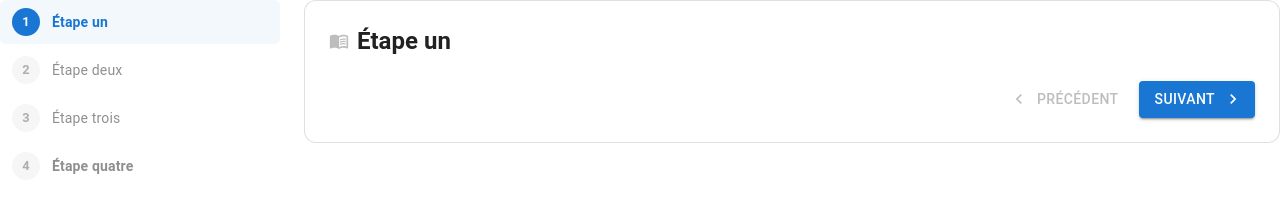
Test case: ModuleStepper › coche les étapes déjà franchies dans le sommaire, pas l'étape active ni les suivantes
Click the button "Suivant".
click(1197, 99)  # box [1138,81,1255,118]
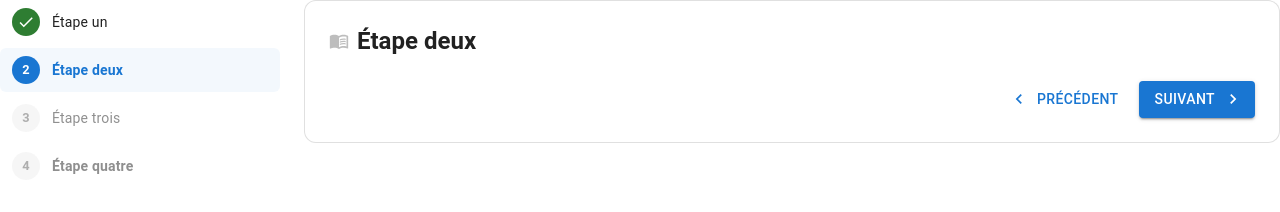
Click the button "Suivant".
click(1197, 99)  # box [1138,81,1255,118]
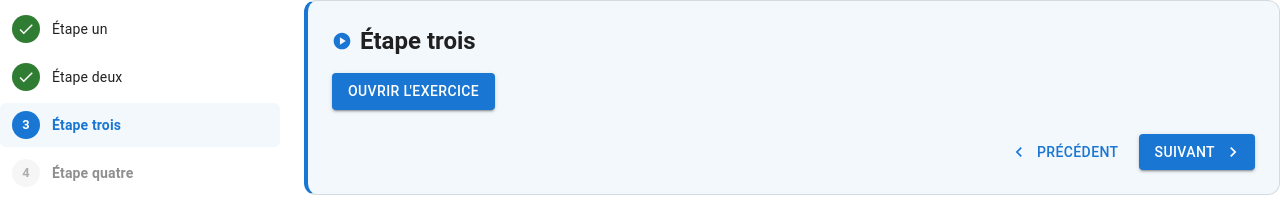
Check: the icon with test id "CheckIcon" next to "Étape un" is shown, box [17,20,35,38]
Check: the icon with test id "CheckIcon" next to "Étape deux" is shown, box [17,68,35,86]
